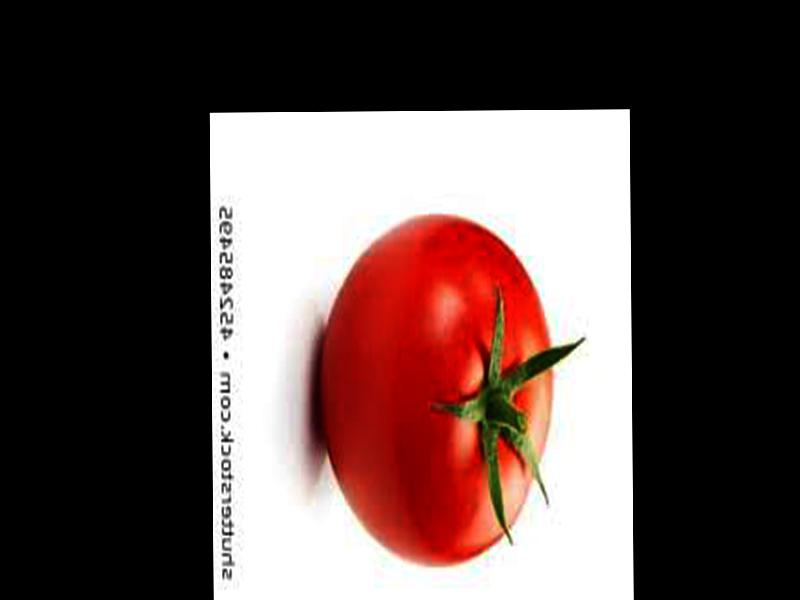Tomato: (316, 218, 553, 562)
